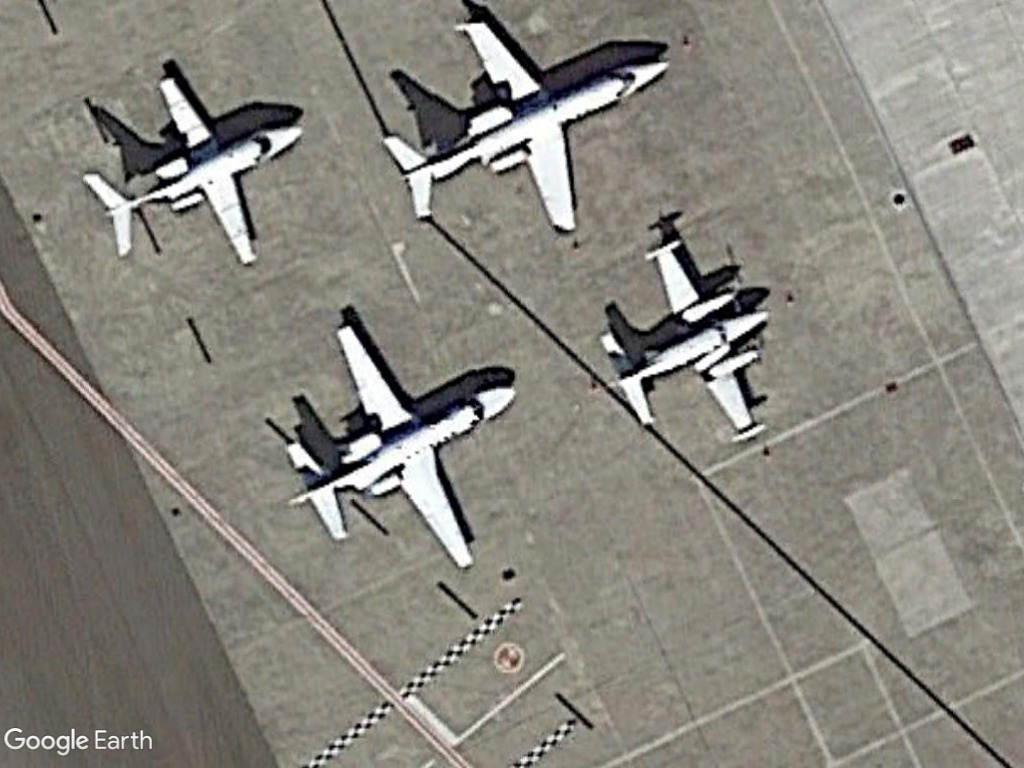chartered: (382, 18, 672, 235), (272, 326, 522, 575), (80, 73, 312, 277)
trainer: (591, 235, 777, 447)
